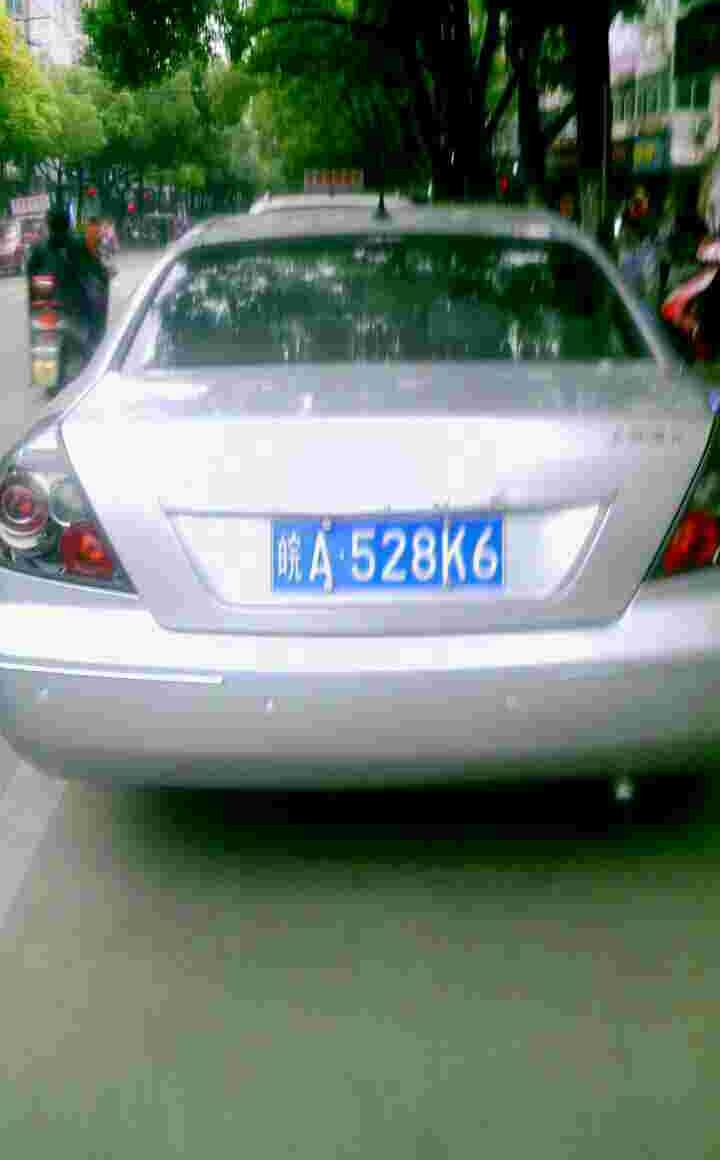license_plate: (274, 517, 512, 594)
